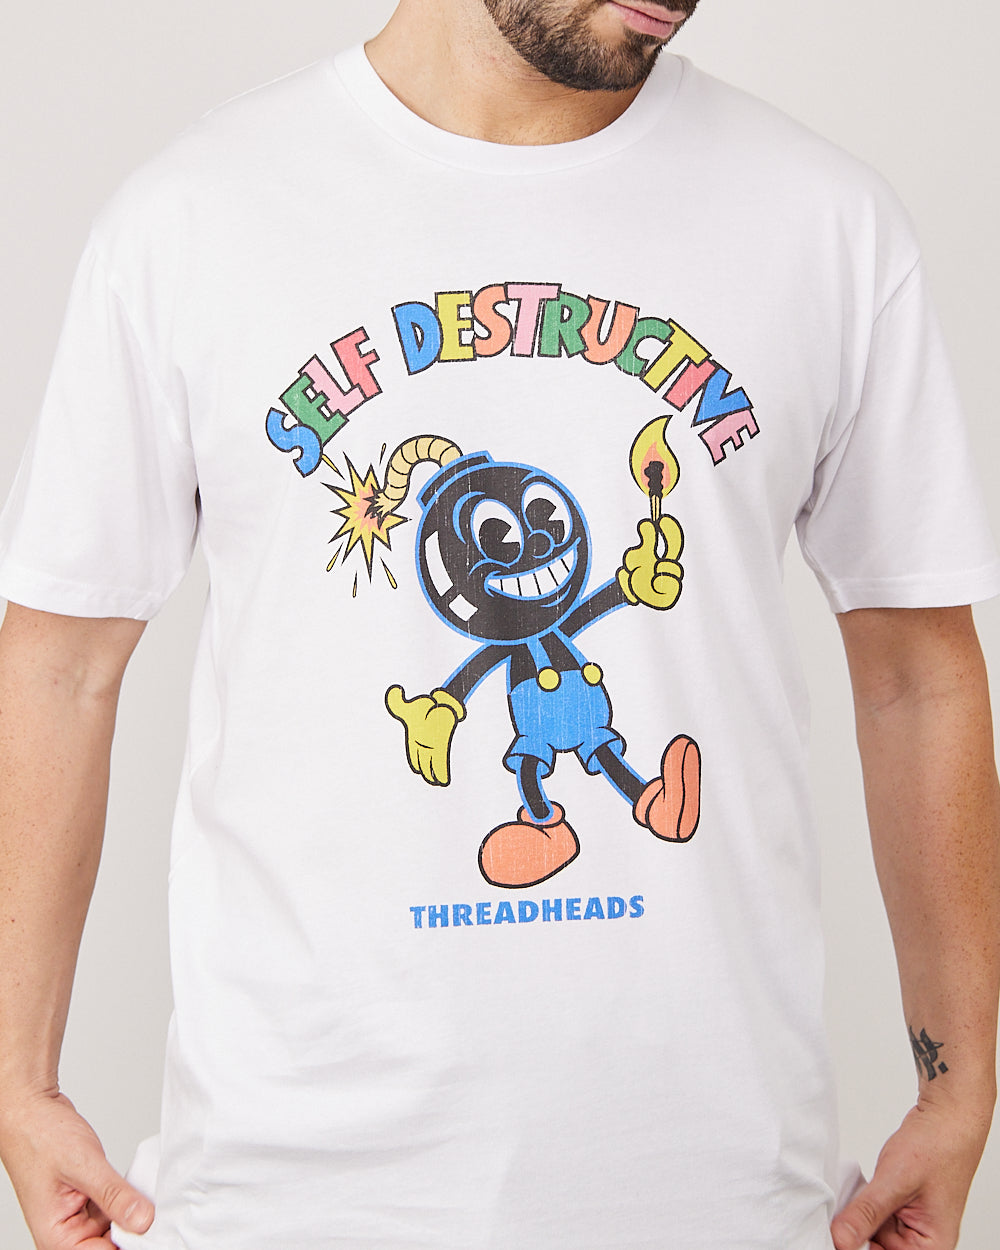design: (259, 276, 766, 935)
